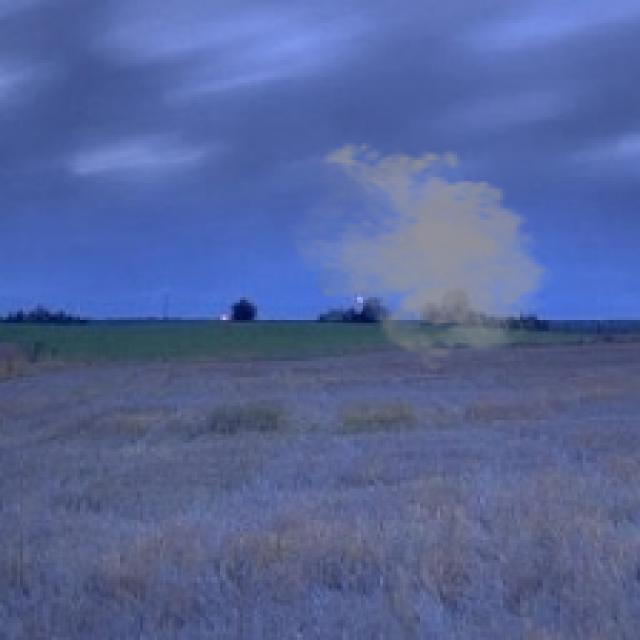smoke: (286, 137, 557, 374)
